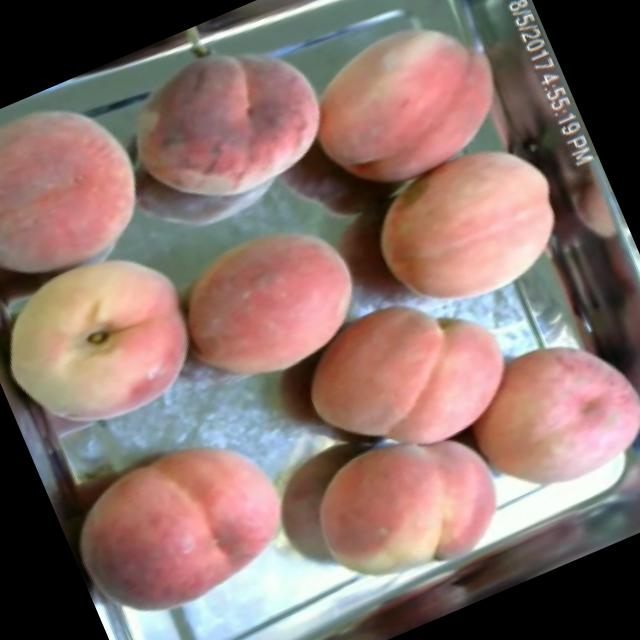Fruit: (90, 1, 360, 250), (44, 402, 314, 640), (274, 264, 540, 498), (278, 388, 533, 618), (0, 225, 229, 466), (346, 122, 594, 344), (146, 193, 387, 415), (281, 0, 523, 208), (435, 303, 640, 530), (0, 64, 176, 320)
